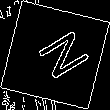N_SW: (23, 25, 87, 85)
